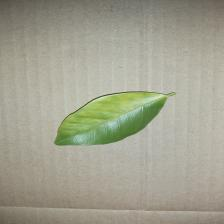greening: (43, 88, 177, 149)
